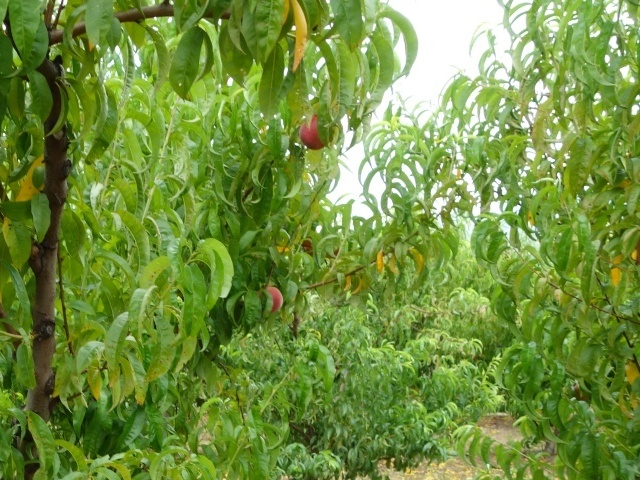peach: (298, 112, 341, 153), (257, 282, 288, 316)
